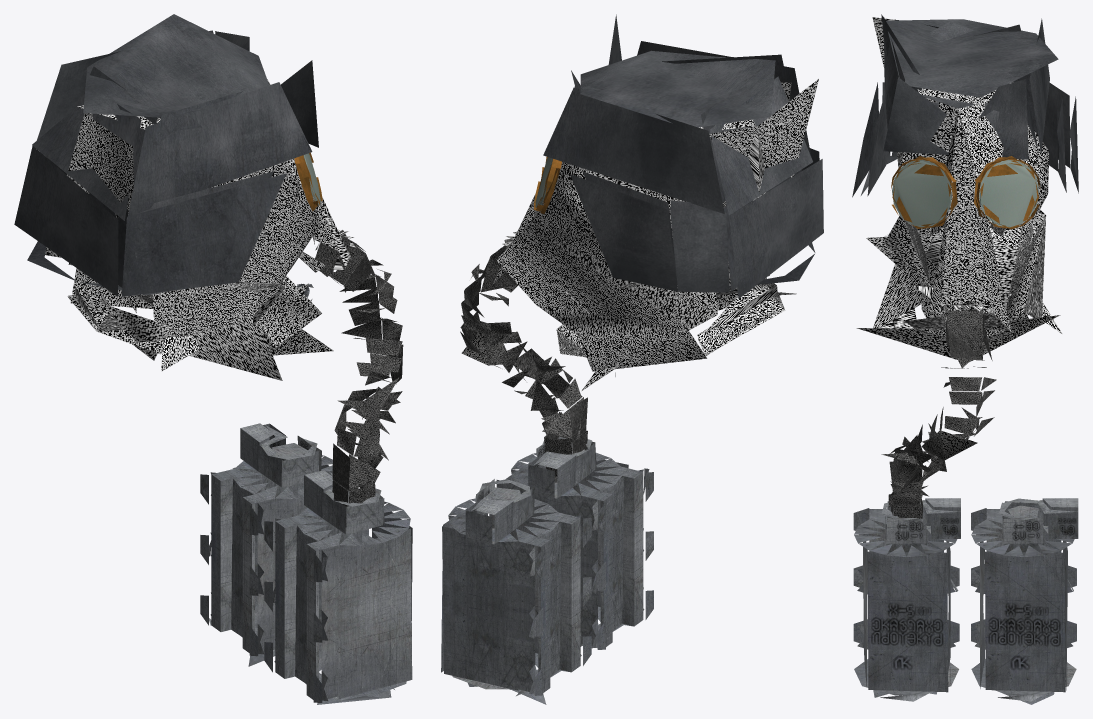
File: chemical_kit.glb
3 renders of one model, left to right at view 1: azimuth 30°, elevation 25°; view 2: azimuth 150°, elevation 25°; view 3: azimuth 270°, elevation 25°, orthographic. The views are drawn at different scales.
Parts seen in each view (by area): view 1: Object_4, Object_3, Object_5, Object_2, Object_6; view 2: Object_4, Object_3, Object_5, Object_2, Object_6; view 3: Object_3, Object_5, Object_4, Object_2, Object_7, Object_6.
Part boxes in pixels (left/top/right/bottom): Object_4: left=14, top=14, right=318, bottom=296; Object_3: left=200, top=423, right=412, bottom=704; Object_5: left=45, top=79, right=355, bottom=380; Object_2: left=315, top=230, right=403, bottom=527; Object_6: left=294, top=152, right=322, bottom=211; Object_4: left=543, top=14, right=823, bottom=298; Object_3: left=441, top=436, right=653, bottom=704; Object_5: left=492, top=79, right=818, bottom=391; Object_2: left=460, top=238, right=587, bottom=478; Object_6: left=534, top=157, right=561, bottom=213; Object_3: left=853, top=498, right=1078, bottom=704; Object_5: left=856, top=17, right=1062, bottom=361; Object_4: left=852, top=14, right=1078, bottom=197; Object_2: left=881, top=309, right=996, bottom=518; Object_7: left=892, top=159, right=1038, bottom=227; Object_6: left=891, top=156, right=1040, bottom=229.
Bounding box in the file's own units: 62.81 × 111 × 37.85.
7 materials, 7 textured.
